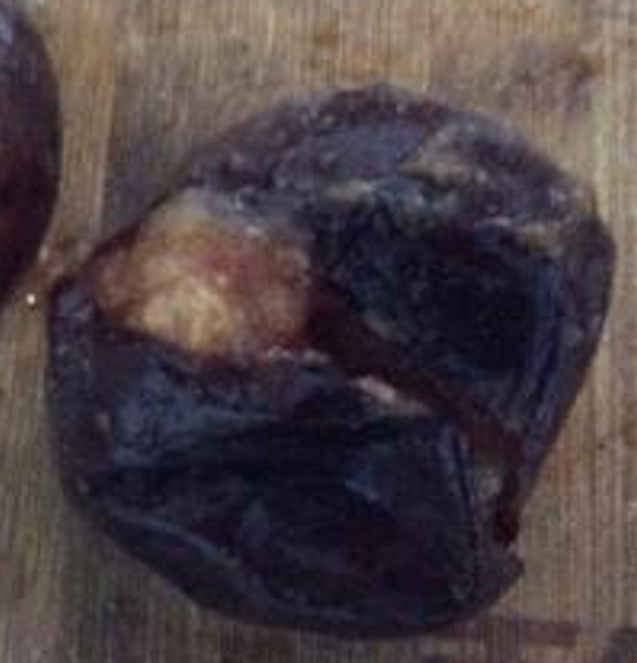plum_C: (49, 84, 619, 643)
